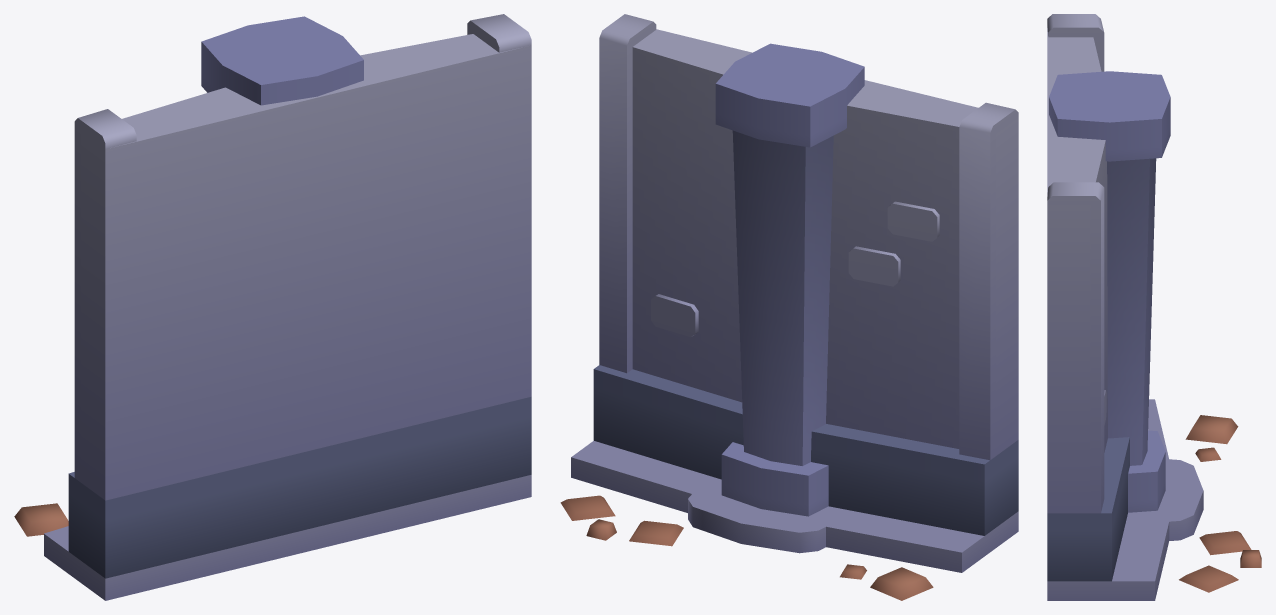
File: template-wall-detail-a.glb
3 renders of one model, left to right at view 1: azimuth 30°, elevation 25°; view 2: azimuth 150°, elevation 25°; view 3: azimuth 270°, elevation 25°, orthographic. The views are drawn at different scales.
Parts seen in each view (by area): view 1: template-wall-detail-a; view 2: template-wall-detail-a; view 3: template-wall-detail-a.
Boxes of the visible parts, x1,y1,x2,y2 form: template-wall-detail-a: [14, 14, 531, 600]; template-wall-detail-a: [560, 14, 1018, 600]; template-wall-detail-a: [1047, 14, 1261, 600].
Size of the model in its own units: 4 by 4.23 by 1.99.
1 material, 1 textured.
